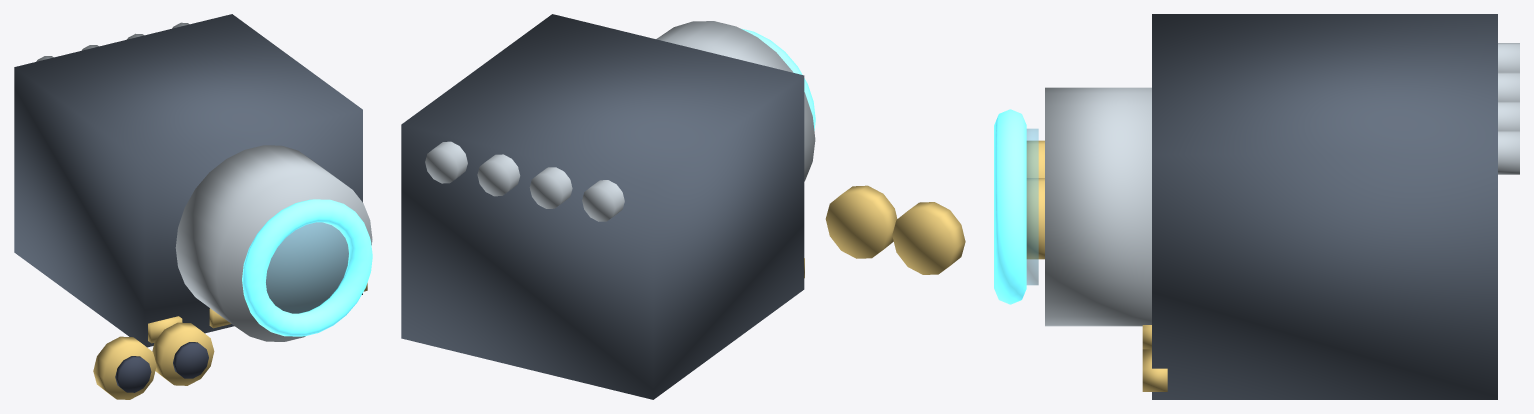
Rendered from 24_L86_StructuredLightDepthScanner.glb.
3 views of the same model, side by side, from view 1: azimuth 30°, elevation 25°; view 2: azimuth 150°, elevation 25°; view 3: azimuth 270°, elevation 25° (orthographic). The views are drawn at different scales.
Visible parts, largest first — view 1: L86_StructuredLightDepthScann_Part_0000, L86_StructuredLightDepthScann_Part_0001, L86_StructuredLightDepthScann_Part_0003, L86_StructuredLightDepthScann_Part_0002, L86_StructuredLightDepthScann_Part_0005, L86_StructuredLightDepthScann_Part_0007, L86_StructuredLightDepthScann_Part_0006, L86_StructuredLightDepthScann_Part_0008, L86_StructuredLightDepthScann_Part_0004; view 2: L86_StructuredLightDepthScann_Part_0000, L86_StructuredLightDepthScann_Part_0001, L86_StructuredLightDepthScann_Part_0005, L86_StructuredLightDepthScann_Part_0007, L86_StructuredLightDepthScann_Part_0003; view 3: L86_StructuredLightDepthScann_Part_0000, L86_StructuredLightDepthScann_Part_0001, L86_StructuredLightDepthScann_Part_0003, L86_StructuredLightDepthScann_Part_0002, L86_StructuredLightDepthScann_Part_0007, L86_StructuredLightDepthScann_Part_0004, L86_StructuredLightDepthScann_Part_0005.
Boxes of the visible parts, x1,y1,x2,y2 form: L86_StructuredLightDepthScann_Part_0000: (14, 14, 362, 347); L86_StructuredLightDepthScann_Part_0001: (36, 22, 372, 341); L86_StructuredLightDepthScann_Part_0003: (242, 199, 372, 336); L86_StructuredLightDepthScann_Part_0002: (266, 222, 348, 313); L86_StructuredLightDepthScann_Part_0005: (93, 336, 156, 399); L86_StructuredLightDepthScann_Part_0007: (152, 322, 214, 385); L86_StructuredLightDepthScann_Part_0006: (115, 356, 151, 392); L86_StructuredLightDepthScann_Part_0008: (173, 342, 208, 378); L86_StructuredLightDepthScann_Part_0004: (148, 283, 367, 343); L86_StructuredLightDepthScann_Part_0000: (401, 14, 804, 399); L86_StructuredLightDepthScann_Part_0001: (425, 21, 815, 221); L86_StructuredLightDepthScann_Part_0005: (892, 202, 965, 274); L86_StructuredLightDepthScann_Part_0007: (825, 185, 897, 258); L86_StructuredLightDepthScann_Part_0003: (740, 28, 815, 130); L86_StructuredLightDepthScann_Part_0000: (1152, 14, 1497, 399); L86_StructuredLightDepthScann_Part_0001: (1045, 43, 1519, 326); L86_StructuredLightDepthScann_Part_0003: (994, 109, 1026, 304); L86_StructuredLightDepthScann_Part_0002: (1026, 128, 1038, 285); L86_StructuredLightDepthScann_Part_0007: (1026, 178, 1044, 259); L86_StructuredLightDepthScann_Part_0004: (1142, 325, 1167, 391); L86_StructuredLightDepthScann_Part_0005: (1026, 140, 1044, 177).
Bounding box in the file's own units: 0.7525 × 0.4312 × 0.836.
